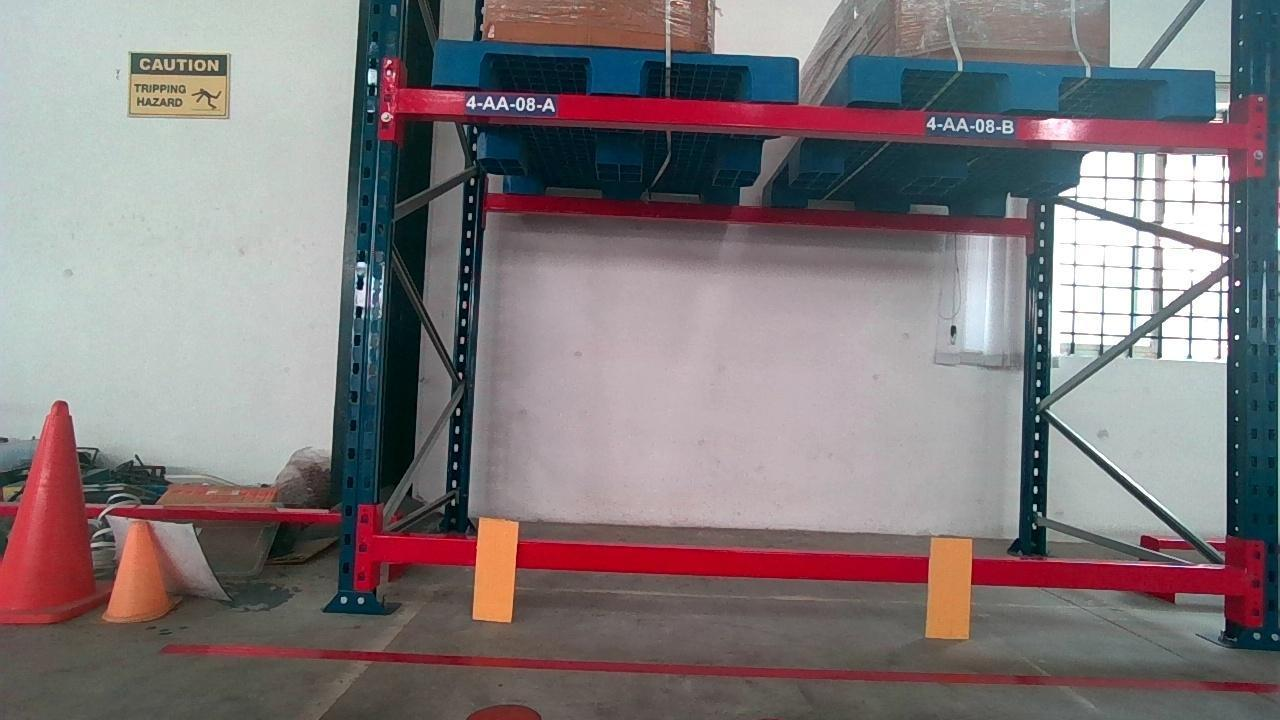h_rack: (370, 537, 1248, 591), (411, 92, 1251, 141)
orange_strip: (926, 536, 972, 637), (472, 516, 516, 619)
small_pallet: (851, 58, 1216, 112), (433, 45, 796, 94)
